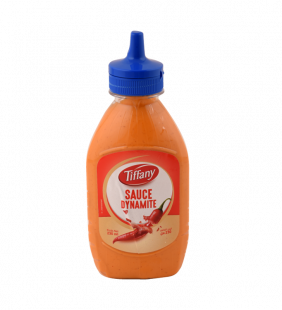TIFFANNY: (80, 26, 195, 284)
